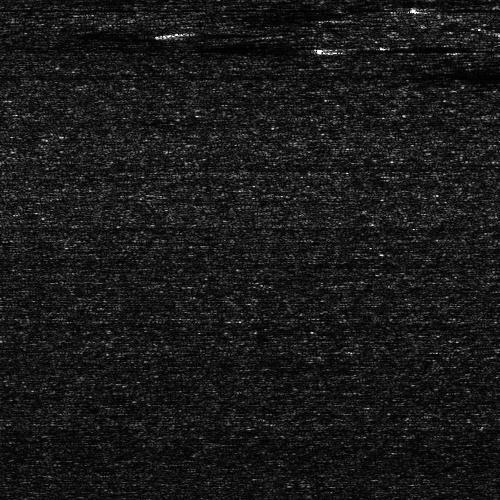object: (264, 41, 357, 50), (149, 29, 190, 34), (403, 3, 434, 8)
shadow: (311, 41, 480, 50), (419, 3, 477, 8), (169, 29, 223, 34)
